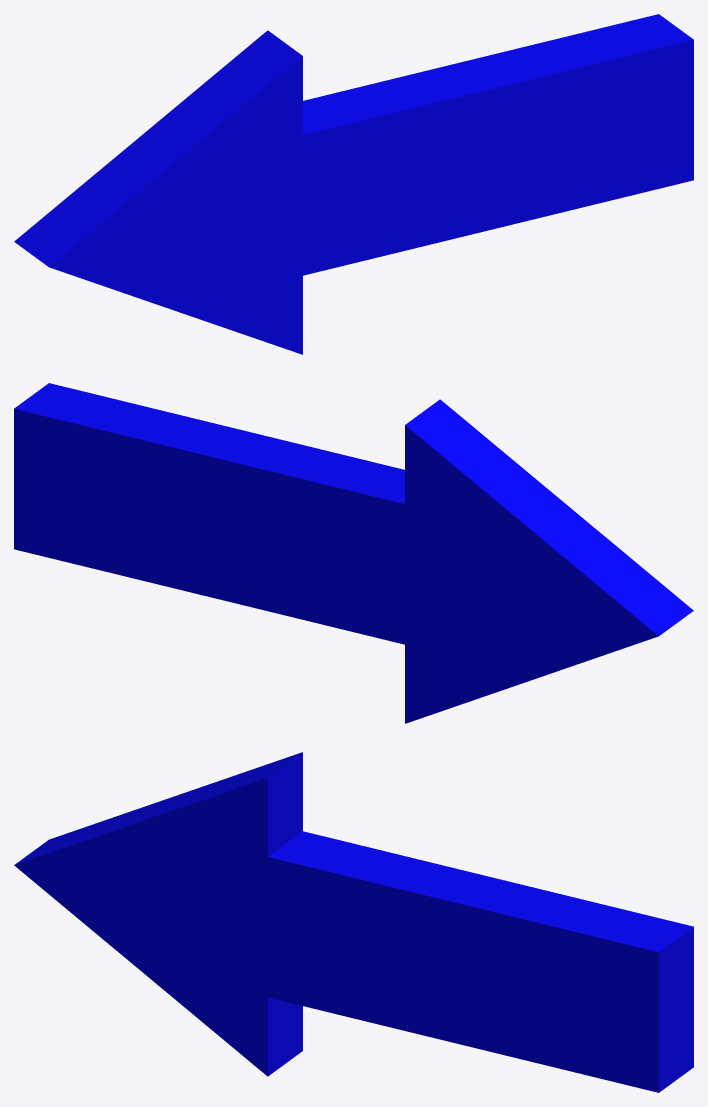
3 views of the same model, one above another, from view 1: azimuth 30°, elevation 25°; view 2: azimuth 150°, elevation 25°; view 3: azimuth 330°, elevation 25° (orthographic).
Parts seen in each view (by area): view 1: JT; view 2: JT; view 3: JT.
Part boxes in pixels (x1,y1,x2,y2): JT: (14, 14, 693, 354); JT: (14, 383, 693, 723); JT: (14, 752, 693, 1092).
Size of the model in its own units: 12.38 by 5.48 by 1.17.
